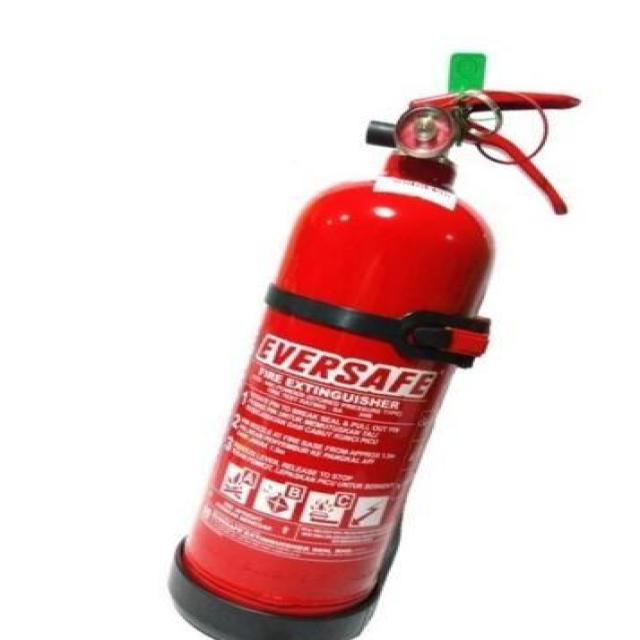fire_extinguisher: (156, 48, 586, 639)
